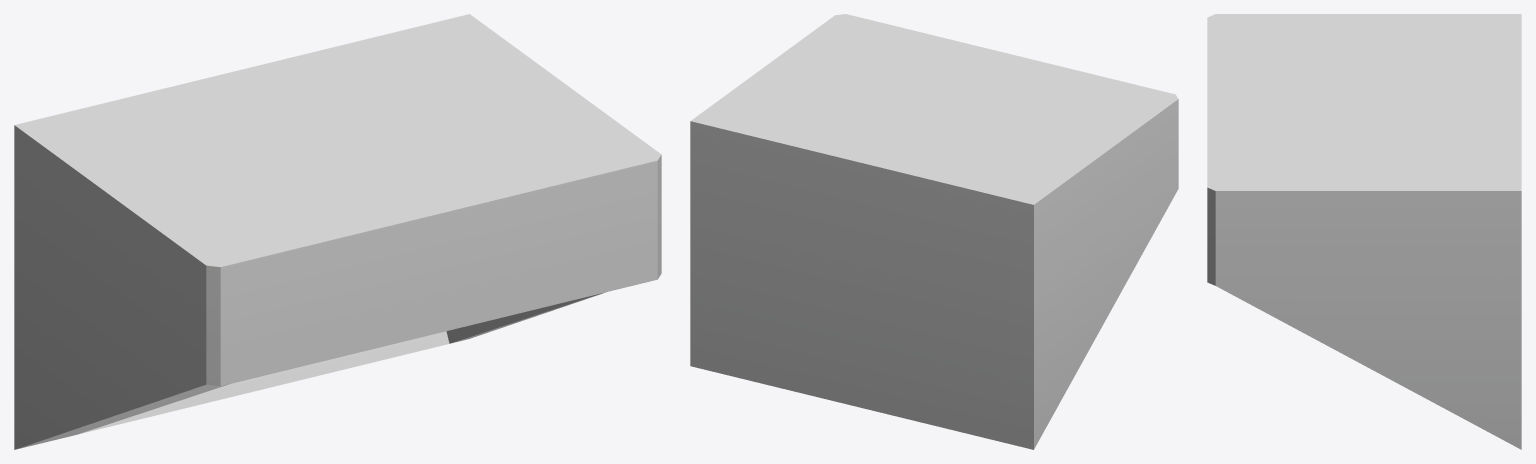
Rendered from Kitchen_Exhaust_01_C02.fbx.
3 renders of one model, left to right at view 1: azimuth 30°, elevation 25°; view 2: azimuth 150°, elevation 25°; view 3: azimuth 270°, elevation 25°, orthographic. The views are drawn at different scales.
Parts seen in each view (by area): view 1: Kitchen_Exhaust_01_C02; view 2: Kitchen_Exhaust_01_C02; view 3: Kitchen_Exhaust_01_C02.
Boxes of the visible parts, x1=… form: Kitchen_Exhaust_01_C02: x1=14, y1=14, x2=661, y2=449; Kitchen_Exhaust_01_C02: x1=690, y1=14, x2=1178, y2=449; Kitchen_Exhaust_01_C02: x1=1207, y1=14, x2=1521, y2=449.
Bounding box in the file's own units: 100 × 68.18 × 75.
